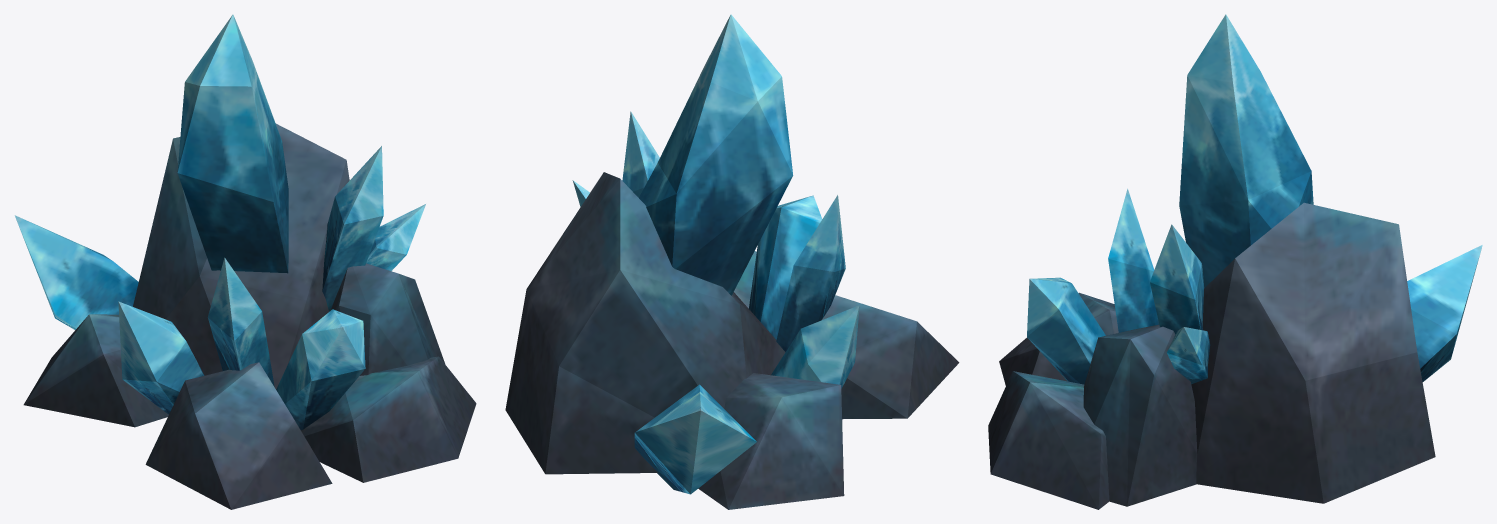
The model's file is mine_ember_ore01.fbx.
The picture shows the model from 3 angles, left to right: view 1: azimuth 30°, elevation 25°; view 2: azimuth 150°, elevation 25°; view 3: azimuth 270°, elevation 25°; orthographic projection. The views are drawn at different scales.
Parts seen in each view (by area): view 1: obj0.016; view 2: obj0.016; view 3: obj0.016.
Boxes of the visible parts, box(x1,y1,x2,y2) form: obj0.016: box(14, 14, 476, 509); obj0.016: box(505, 14, 959, 509); obj0.016: box(988, 14, 1482, 509).
Size of the model in its own units: 1.83 by 2.11 by 2.21.
